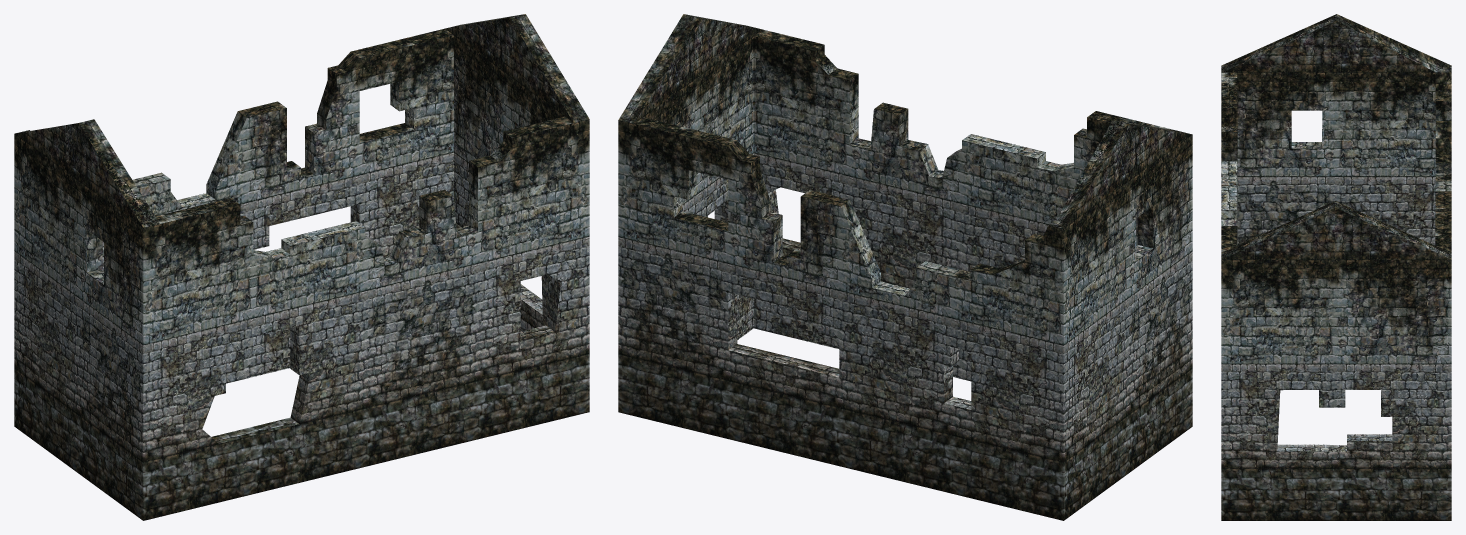
3 renders of one model, left to right at view 1: azimuth 30°, elevation 25°; view 2: azimuth 150°, elevation 25°; view 3: azimuth 270°, elevation 25°, orthographic. The views are drawn at different scales.
Visible parts, largest first — view 1: hr_h1; view 2: hr_h1; view 3: hr_h1.
Part boxes in pixels (left/top/right/bottom): hr_h1: left=14, top=14, right=589, bottom=520; hr_h1: left=618, top=14, right=1192, bottom=520; hr_h1: left=1221, top=14, right=1451, bottom=520.
Bounding box in the file's own units: 11.98 × 9.02 × 6.
5 materials, 5 textured.
